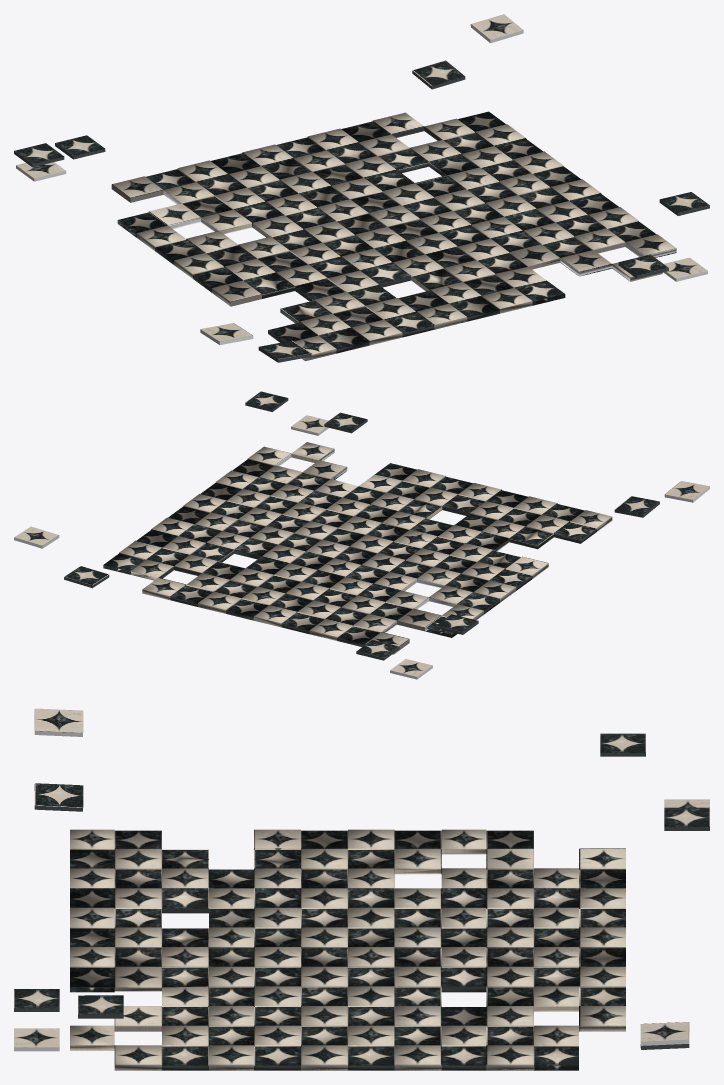
The model's file is sol_carreau.glb.
3 views of the same model, one above another, from view 1: azimuth 30°, elevation 25°; view 2: azimuth 150°, elevation 25°; view 3: azimuth 270°, elevation 25° (orthographic). The views are drawn at different scales.
Parts seen in each view (by area): view 1: sol_carreau; view 2: sol_carreau; view 3: sol_carreau.
Part boxes in pixels (box(x1,y1,x2,y2)): sol_carreau: box(14, 14, 709, 362); sol_carreau: box(14, 391, 709, 679); sol_carreau: box(14, 708, 709, 1070).
Size of the model in its own units: 25.16 by 2.37 by 22.33.
12 materials, 7 textured.
